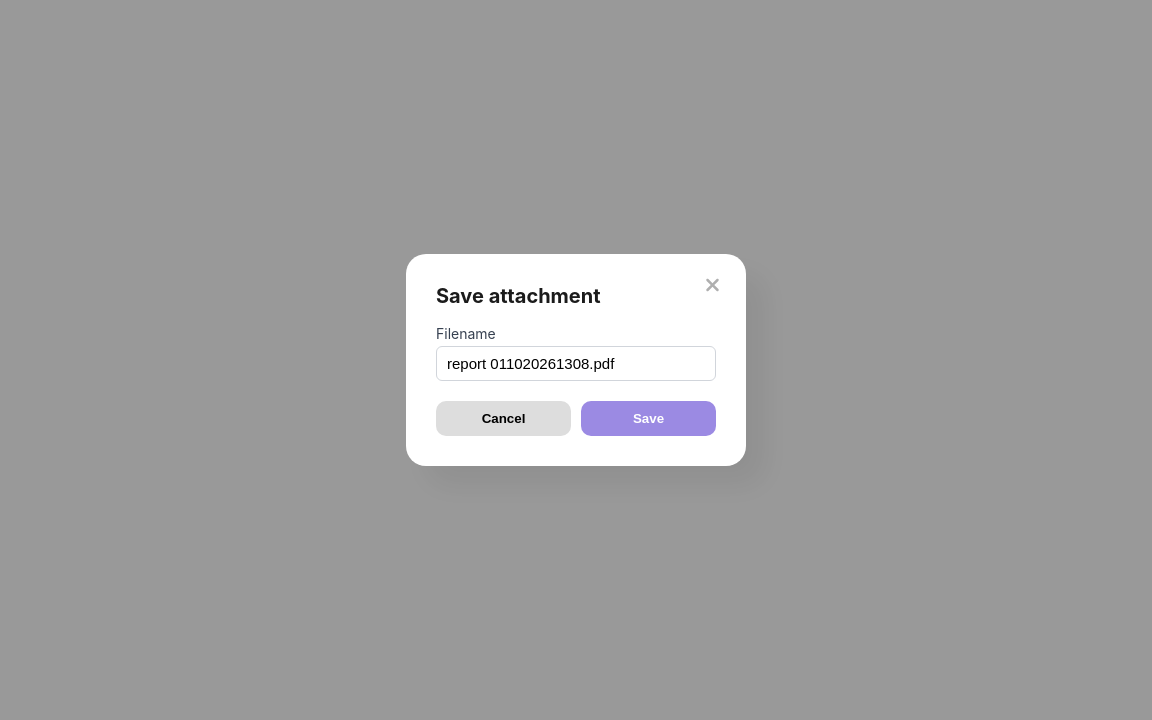
Scenario: S7: a successful save shows the exact success toast and leaves the modal open (S8)
The image size is (1152, 720).
Step 1. Replace the text in the field with test id "save-modal-filename-input" with "my-report.pdf" → (576, 364), box left=436, top=346, right=716, bottom=381
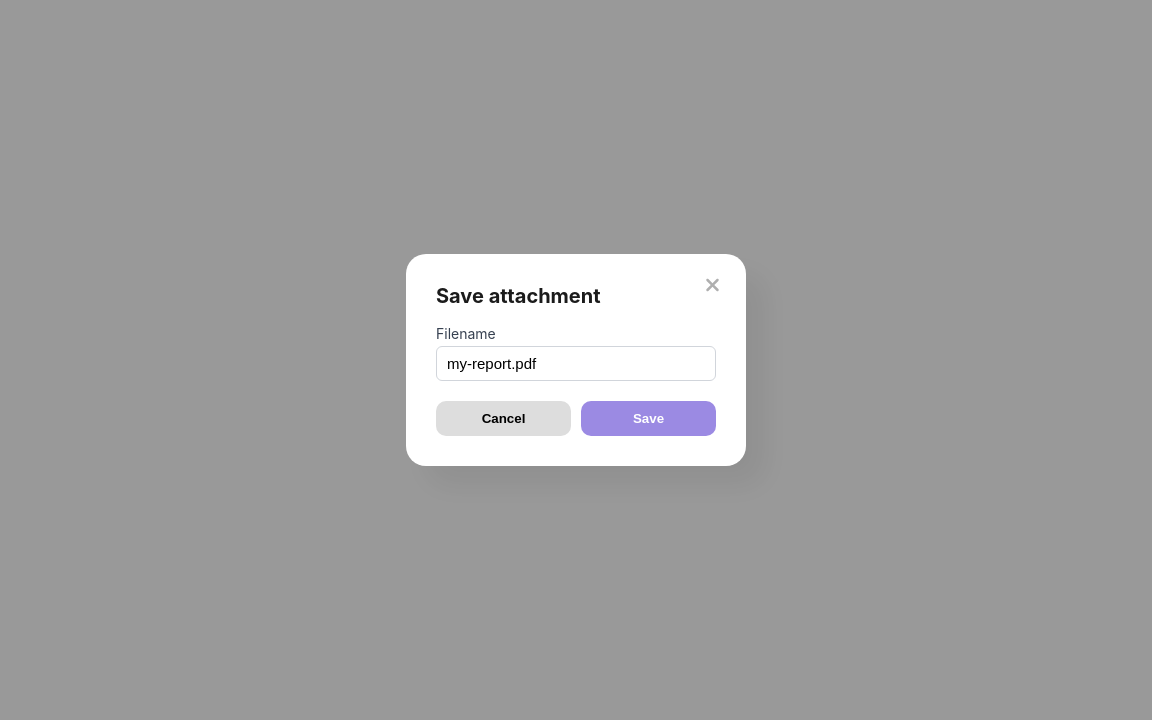
Step 2. Click the button with test id "save-modal-confirm-button" → (648, 418), box left=581, top=401, right=716, bottom=436
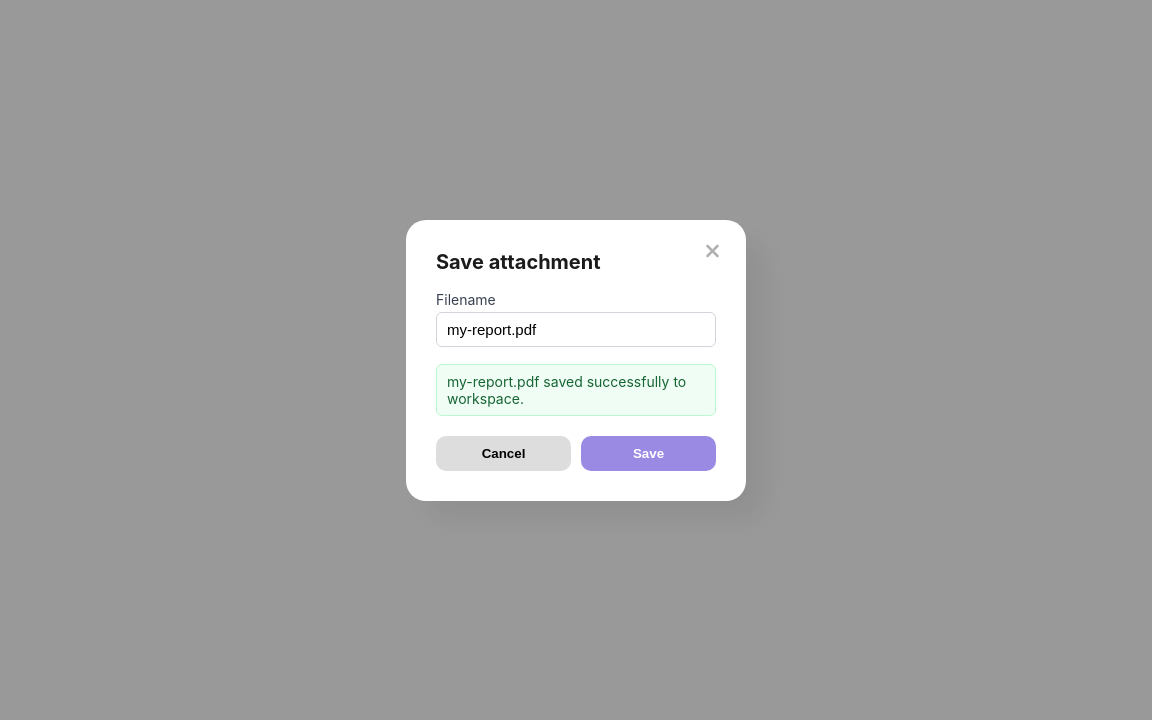
Check: the message with test id "success-toast" reads "my-report.pdf saved successfully to workspace.", box left=447, top=372, right=686, bottom=406
